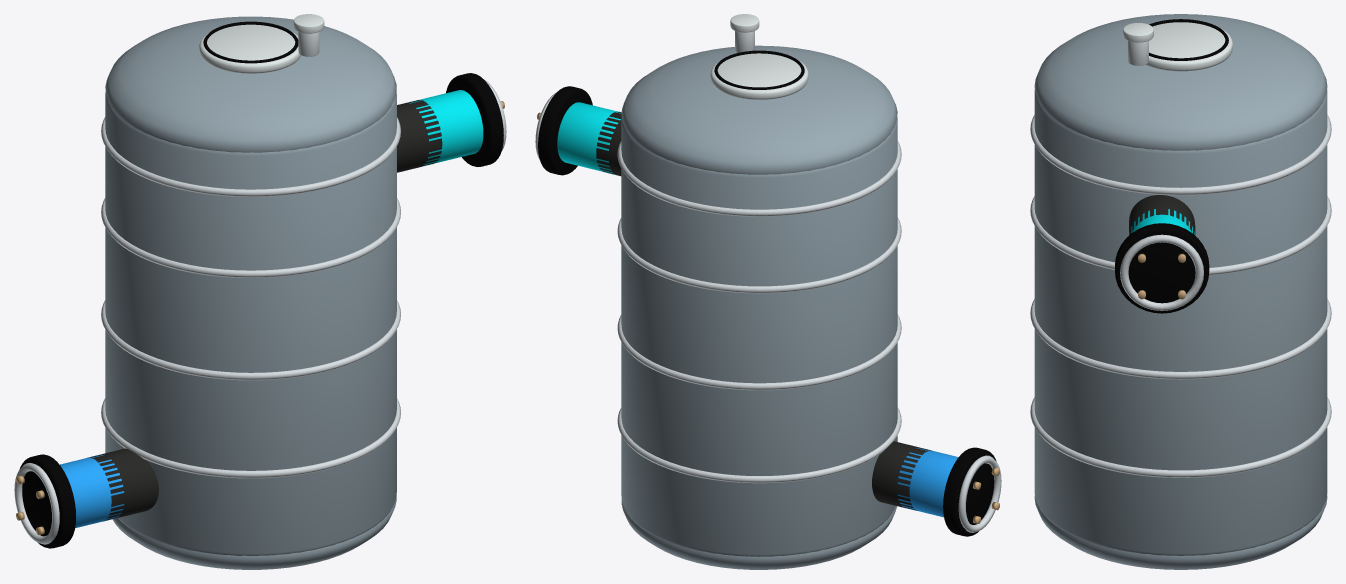
Rendered from storage-tank.glb.
The picture shows the model from 3 angles, left to right: view 1: azimuth 30°, elevation 25°; view 2: azimuth 150°, elevation 25°; view 3: azimuth 270°, elevation 25°; orthographic projection. The views are drawn at different scales.
Parts seen in each view (by area): view 1: vertical insulated storage vessel, rounded upper tank head, low top inspection manway cover, rounded lower tank head, upper chilled outlet colored pipe stub, lower chilled inlet dark pump-size flange, lower chilled inlet black cast tank neck, lower chilled inlet colored pipe stub, raised tank reinforcing band 1, raised tank reinforcing band 3, raised tank reinforcing band 2, raised tank reinforcing band 0 (+4 smaller); view 2: vertical insulated storage vessel, rounded upper tank head, low top inspection manway cover, rounded lower tank head, upper chilled outlet colored pipe stub, lower chilled inlet dark pump-size flange, lower chilled inlet colored pipe stub, raised tank reinforcing band 1, raised tank reinforcing band 2, raised tank reinforcing band 3, raised tank reinforcing band 0, lower chilled inlet black cast tank neck (+4 smaller); view 3: vertical insulated storage vessel, rounded upper tank head, upper chilled outlet dark pump-size flange, rounded lower tank head, low top inspection manway cover, raised tank reinforcing band 3, raised tank reinforcing band 1, raised tank reinforcing band 0, raised tank reinforcing band 2, upper chilled outlet metal flange lip, upper chilled outlet black cast tank neck, thin top manway gasket line (+3 smaller).
Part boxes in pixels (left/top/right/bottom): vertical insulated storage vessel: left=105, top=92, right=396, bottom=555; rounded upper tank head: left=105, top=16, right=396, bottom=152; low top inspection manway cover: left=199, top=24, right=301, bottom=73; rounded lower tank head: left=112, top=496, right=396, bottom=569; upper chilled outlet colored pipe stub: left=407, top=90, right=483, bottom=166; lower chilled inlet dark pump-size flange: left=20, top=454, right=75, bottom=548; lower chilled inlet black cast tank neck: left=87, top=448, right=158, bottom=521; lower chilled inlet colored pipe stub: left=60, top=455, right=124, bottom=528; raised tank reinforcing band 1: left=101, top=300, right=400, bottom=380; raised tank reinforcing band 3: left=101, top=117, right=400, bottom=196; raised tank reinforcing band 2: left=101, top=198, right=400, bottom=277; raised tank reinforcing band 0: left=101, top=398, right=400, bottom=478; vertical insulated storage vessel: left=621, top=117, right=897, bottom=556; rounded upper tank head: left=621, top=45, right=897, bottom=174; low top inspection manway cover: left=710, top=53, right=808, bottom=99; rounded lower tank head: left=621, top=500, right=896, bottom=569; upper chilled outlet colored pipe stub: left=557, top=102, right=621, bottom=174; lower chilled inlet dark pump-size flange: left=943, top=447, right=996, bottom=536; lower chilled inlet colored pipe stub: left=897, top=447, right=958, bottom=517; raised tank reinforcing band 1: left=617, top=314, right=901, bottom=390; raised tank reinforcing band 2: left=617, top=217, right=901, bottom=293; raised tank reinforcing band 3: left=617, top=141, right=901, bottom=216; raised tank reinforcing band 0: left=617, top=407, right=901, bottom=483; lower chilled inlet black cast tank neck: left=872, top=441, right=931, bottom=510; vertical insulated storage vessel: left=1034, top=90, right=1327, bottom=555; rounded upper tank head: left=1034, top=14, right=1327, bottom=150; upper chilled outlet dark pump-size flange: left=1115, top=223, right=1209, bottom=313; rounded lower tank head: left=1034, top=495, right=1327, bottom=569; low top inspection manway cover: left=1145, top=22, right=1232, bottom=71; raised tank reinforcing band 3: left=1030, top=115, right=1331, bottom=195; raised tank reinforcing band 1: left=1030, top=299, right=1331, bottom=379; raised tank reinforcing band 0: left=1030, top=397, right=1331, bottom=477; raised tank reinforcing band 2: left=1030, top=196, right=1331, bottom=275; upper chilled outlet metal flange lip: left=1120, top=234, right=1203, bottom=310; upper chilled outlet black cast tank neck: left=1129, top=195, right=1195, bottom=235; thin top manway gasket line: left=1149, top=19, right=1228, bottom=60.
Size of the model in its own units: 2.28 by 2.45 by 1.28.
